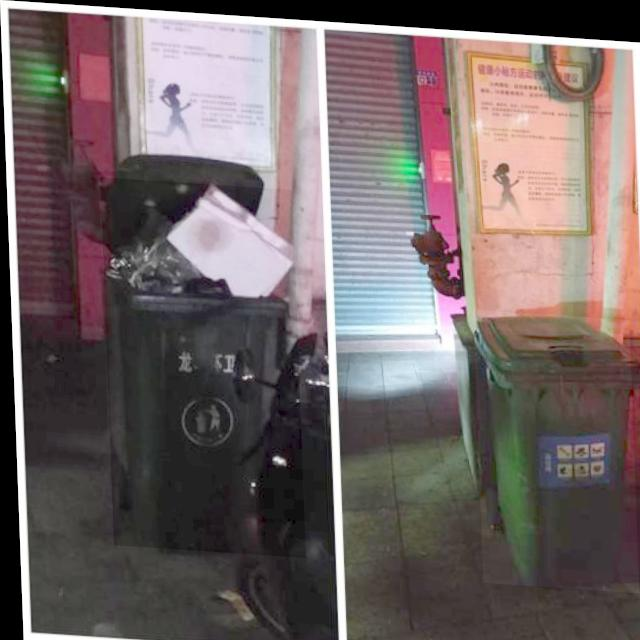garbage_bin: (472, 303, 636, 584)
overflow: (99, 176, 302, 554)
